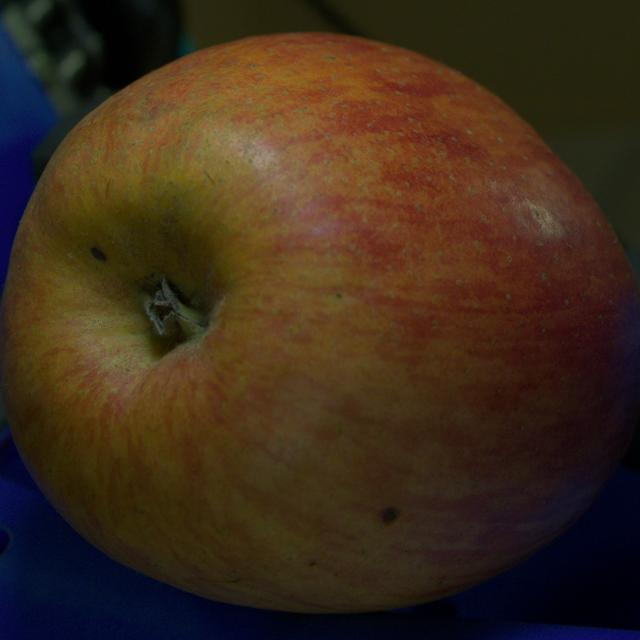apple: (0, 34, 639, 612)
pest: (381, 508, 398, 522), (91, 248, 106, 261)
